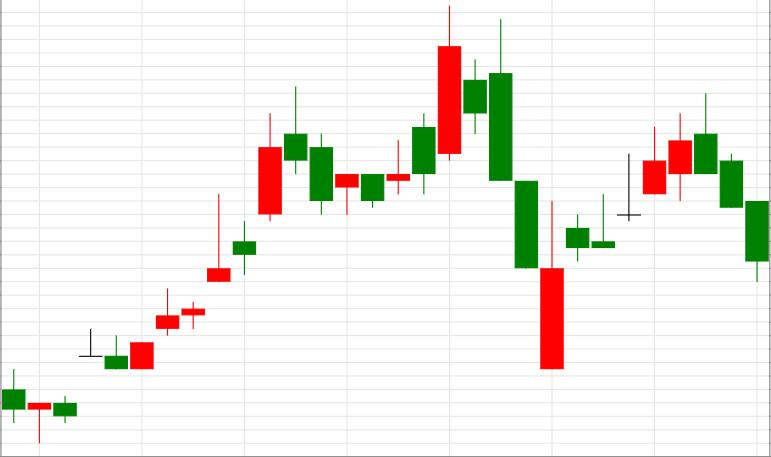shooting_star_fall: (131, 87, 307, 369)
